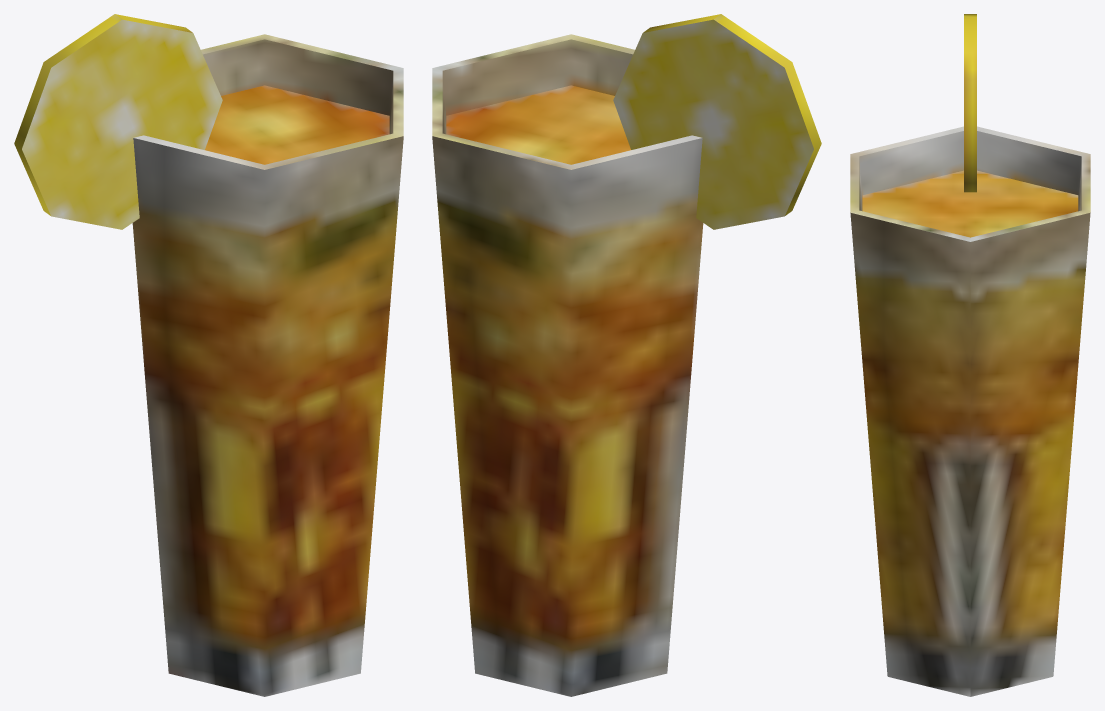
File: DrinkV7.fbx
The picture shows the model from 3 angles, left to right: view 1: azimuth 30°, elevation 25°; view 2: azimuth 150°, elevation 25°; view 3: azimuth 270°, elevation 25°; orthographic projection. The views are drawn at different scales.
Visible parts, largest first — view 1: Cocktails; view 2: Cocktails; view 3: Cocktails.
Part boxes in pixels (x1=…): Cocktails: x1=14, y1=14, x2=403, y2=696; Cocktails: x1=432, y1=14, x2=821, y2=696; Cocktails: x1=850, y1=14, x2=1090, y2=696.
Size of the model in its own units: 0.2064 by 0.342 by 0.1289.
